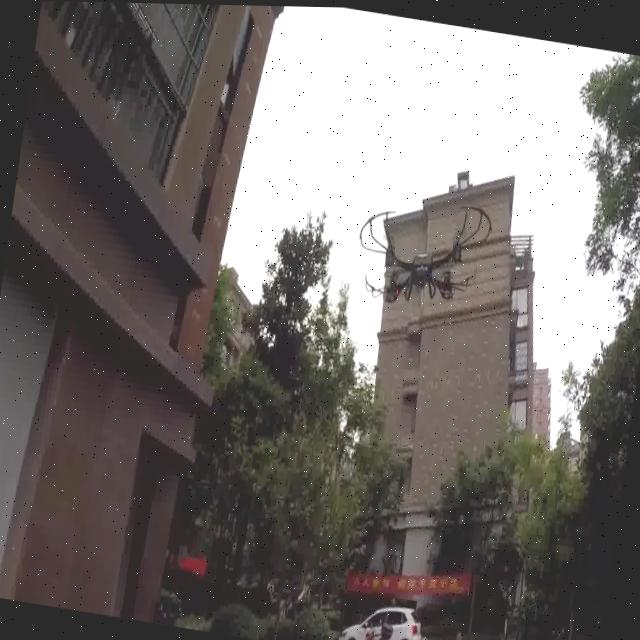drone: (343, 183, 506, 333)
